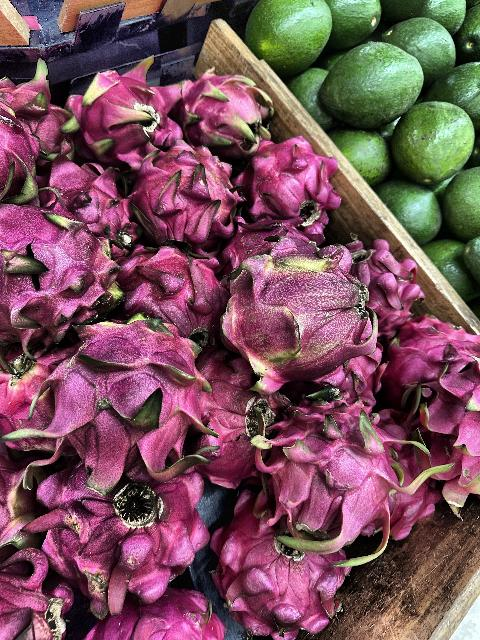buah-naga-belum-matang: (228, 246, 381, 376), (0, 346, 70, 460), (0, 452, 42, 546)
buah-naga-matang: (41, 316, 217, 480), (260, 392, 422, 562), (35, 460, 220, 600), (218, 494, 352, 636), (1, 193, 124, 345), (122, 137, 230, 246), (117, 237, 226, 345), (29, 158, 156, 245), (195, 344, 267, 488), (238, 140, 346, 232), (64, 69, 186, 149), (176, 68, 278, 156), (418, 366, 480, 492), (388, 320, 480, 398), (349, 236, 427, 328), (1, 542, 74, 640), (83, 596, 233, 640), (0, 94, 42, 204)
